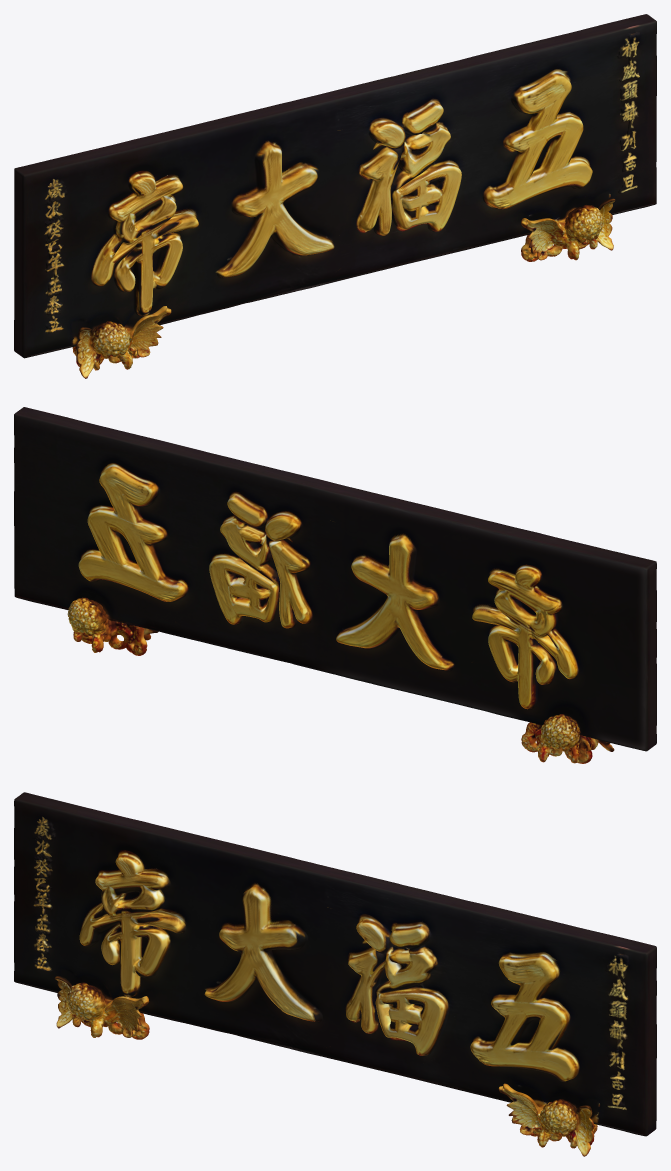
The model's file is wufu-plaque.glb.
3 renders of one model, top to bottom at view 1: azimuth 30°, elevation 25°; view 2: azimuth 150°, elevation 25°; view 3: azimuth 330°, elevation 25°, orthographic.
Parts seen in each view (by area): view 1: tripo_node_583d61ae-6027-495f-8703-8951eb861259; view 2: tripo_node_583d61ae-6027-495f-8703-8951eb861259; view 3: tripo_node_583d61ae-6027-495f-8703-8951eb861259.
Boxes of the visible parts, <box> form: tripo_node_583d61ae-6027-495f-8703-8951eb861259: <box>14,14,656,378</box>; tripo_node_583d61ae-6027-495f-8703-8951eb861259: <box>14,407,656,763</box>; tripo_node_583d61ae-6027-495f-8703-8951eb861259: <box>14,792,656,1156</box>.
Size of the model in its own units: 0.9796 by 0.3187 by 0.1115.
1 material, 1 textured.
